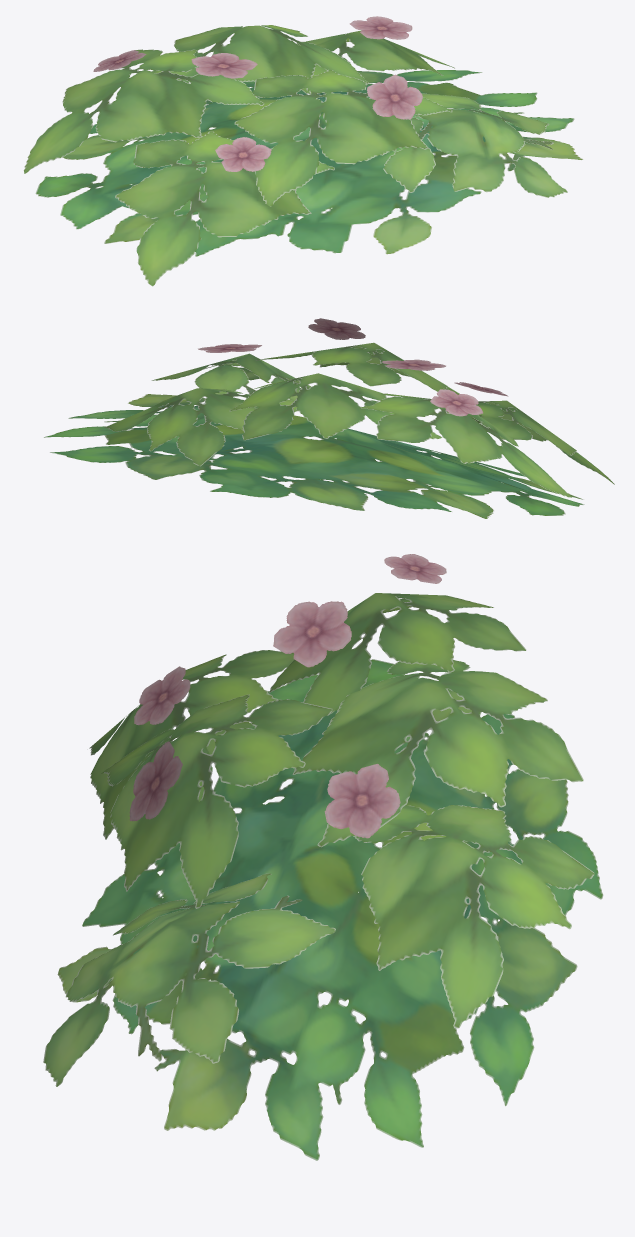
The model's file is Map_06_grass03.FBX.
3 renders of one model, top to bottom at view 1: azimuth 30°, elevation 25°; view 2: azimuth 150°, elevation 25°; view 3: azimuth 270°, elevation 25°, orthographic. The views are drawn at different scales.
Visible parts, largest first — view 1: Map_06_grass03; view 2: Map_06_grass03; view 3: Map_06_grass03.
Part boxes in pixels (x1=…): Map_06_grass03: x1=23, y1=16, x2=583, y2=286; Map_06_grass03: x1=44, y1=318, x2=614, y2=518; Map_06_grass03: x1=43, y1=554, x2=603, y2=1160.
Bounding box in the file's own units: 289 × 149 × 76.17.
